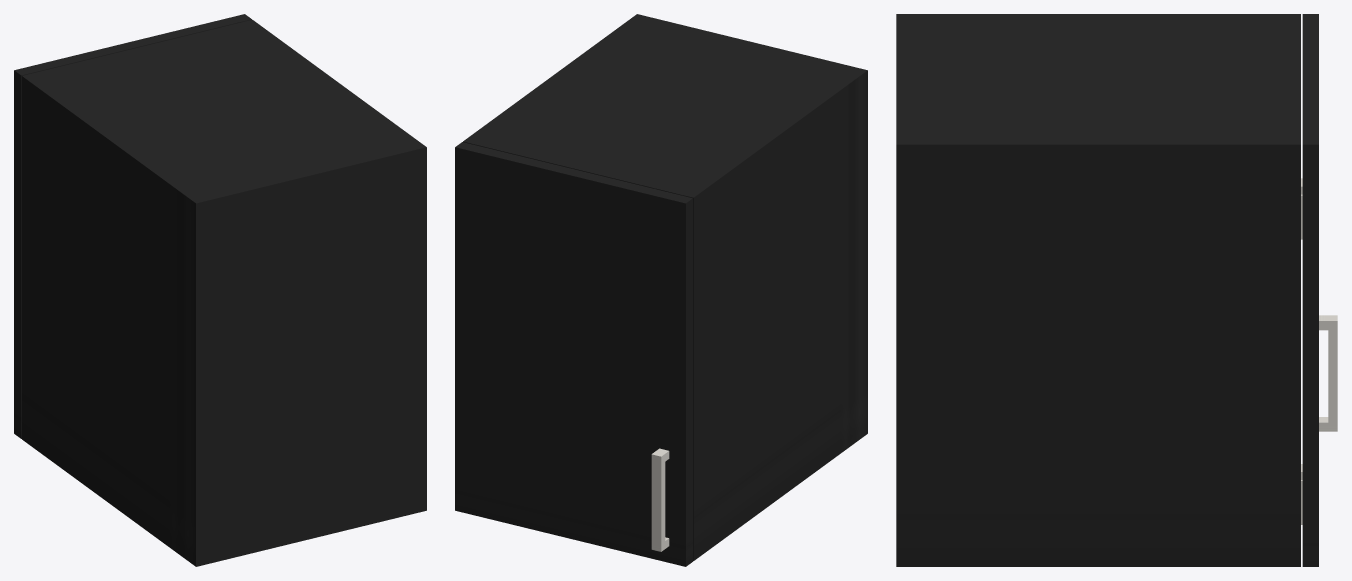
File: CabinetD06.glb
3 renders of one model, left to right at view 1: azimuth 30°, elevation 25°; view 2: azimuth 150°, elevation 25°; view 3: azimuth 270°, elevation 25°, orthographic. The views are drawn at different scales.
Parts seen in each view (by area): view 1: CabinetD06_model, CabinetD06Door; view 2: CabinetD06_model, CabinetD06Door; view 3: CabinetD06_model, CabinetD06Door.
Part boxes in pixels (bbox=[...]): CabinetD06_model: bbox=[22, 19, 426, 566]; CabinetD06Door: bbox=[14, 14, 251, 438]; CabinetD06_model: bbox=[463, 14, 867, 561]; CabinetD06Door: bbox=[455, 142, 692, 566]; CabinetD06_model: bbox=[896, 14, 1302, 566]; CabinetD06Door: bbox=[1301, 14, 1337, 566].
Bounding box in the file's own units: 0.9256 × 1.39 × 1.31.
1 material, 1 textured.
